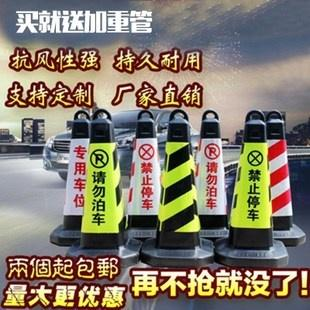cone_barrel: (221, 113, 279, 261), (70, 115, 127, 256), (153, 109, 198, 250), (122, 107, 164, 245), (51, 118, 94, 244), (192, 111, 231, 236), (262, 113, 301, 237)
